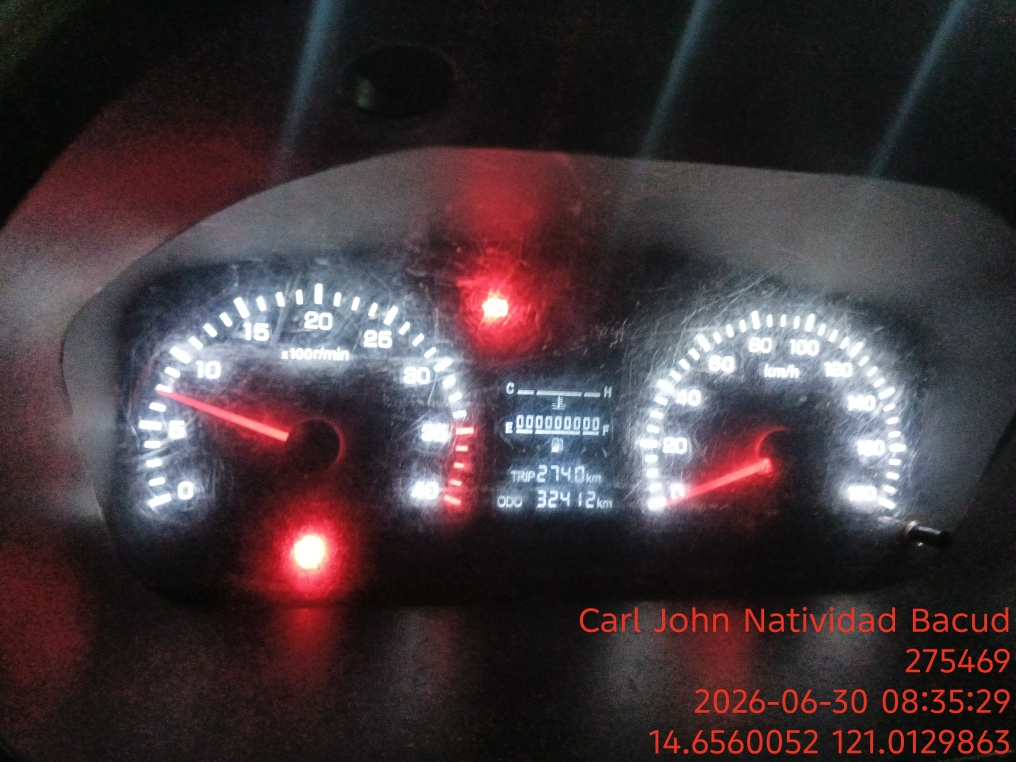grid_pose: (115, 46, 599, 435)
